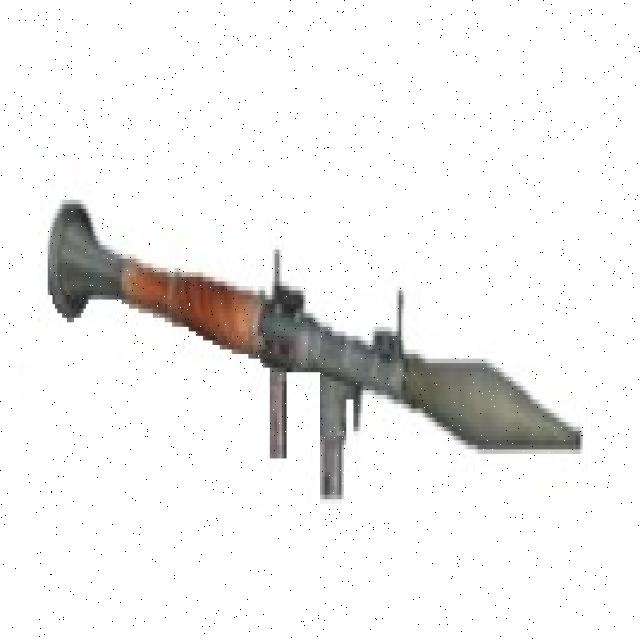bazooka: (43, 188, 588, 512)
